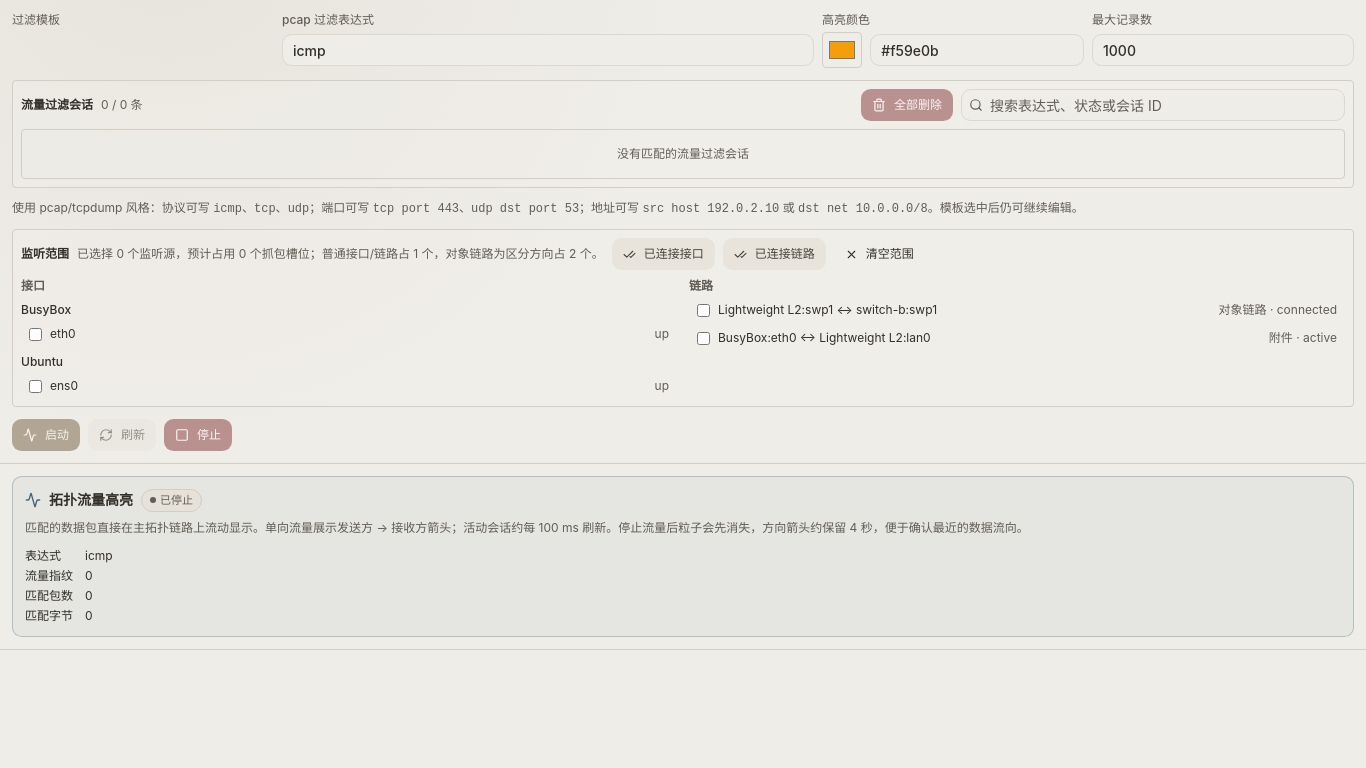
TrafficFilterPanel interactions › reports two capture slots for each directional object link
What coordinates should you click on to do the following:
click the button "已连接链路"
I would click on:
 (774, 254)
Its box is [723,238,826,270].
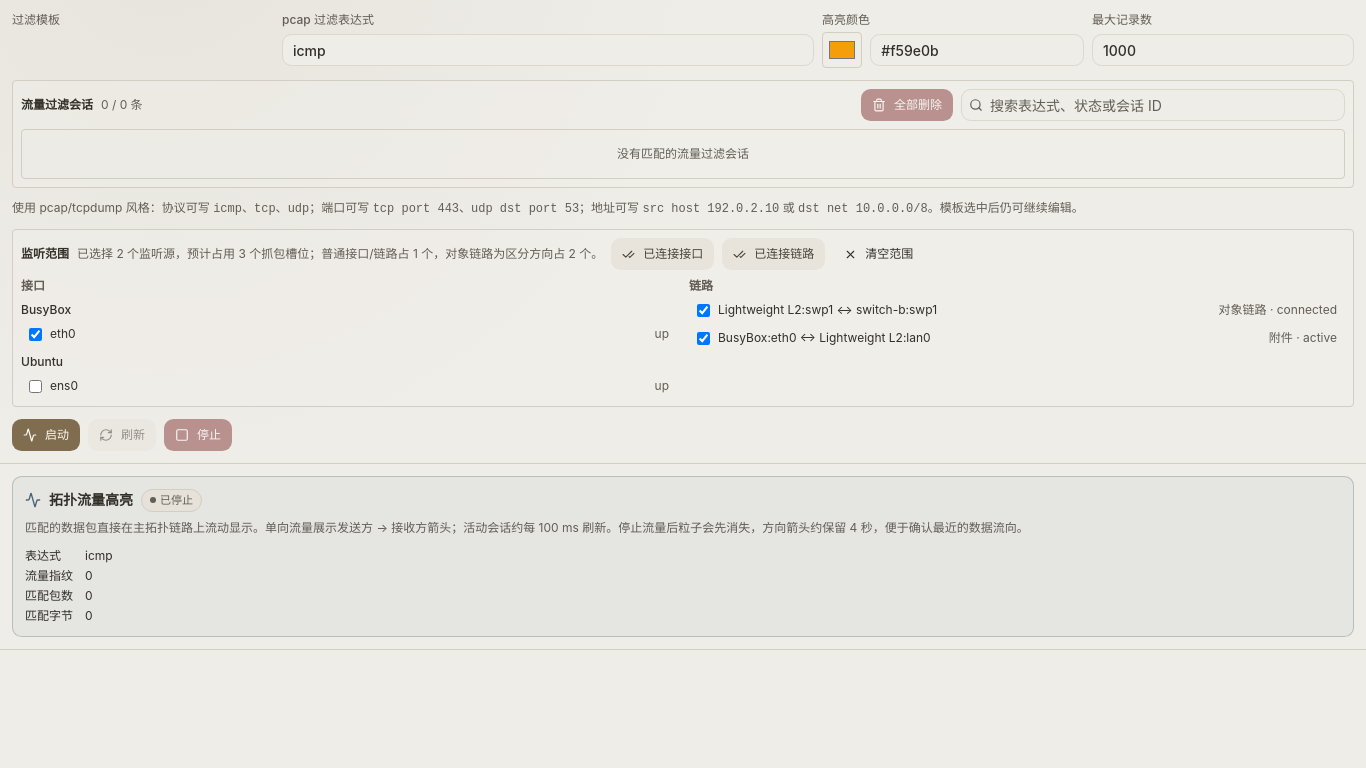
Expected: the text "对象链路为区分方向占 2 个" is shown, [77,246,603,261]
Expected: the text "2 个监听源，预计占用 3 个抓包槽位" is shown, [77,246,603,261]
